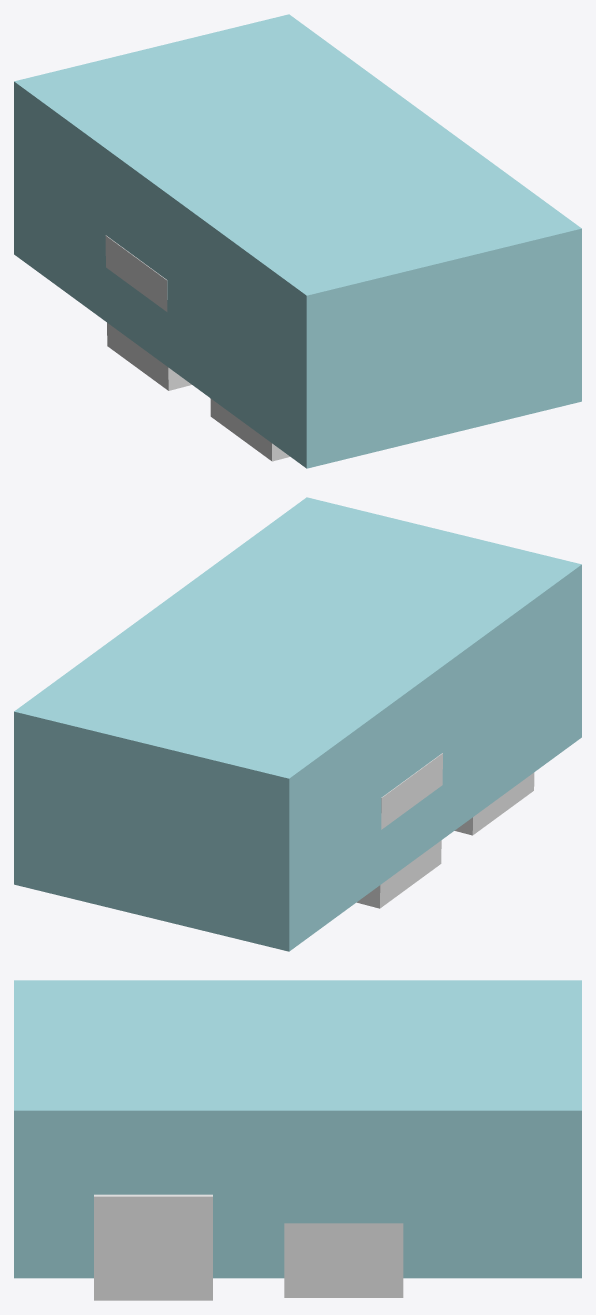
The model's file is tinker.obj.
3 views of the same model, one above another, from view 1: azimuth 30°, elevation 25°; view 2: azimuth 150°, elevation 25°; view 3: azimuth 270°, elevation 25° (orthographic). The views are drawn at different scales.
Parts seen in each view (by area): view 1: group_0_11593967, group_0_16448250; view 2: group_0_11593967, group_0_16448250; view 3: group_0_11593967, group_0_16448250.
Part boxes in pixels (x1,y1,x2,y2): group_0_11593967: [14, 14, 581, 468]; group_0_16448250: [105, 235, 289, 461]; group_0_11593967: [14, 497, 581, 951]; group_0_16448250: [356, 753, 534, 908]; group_0_11593967: [14, 980, 581, 1278]; group_0_16448250: [94, 1194, 403, 1300].
Size of the model in its own units: 53.14 by 35.56 by 95.46.
